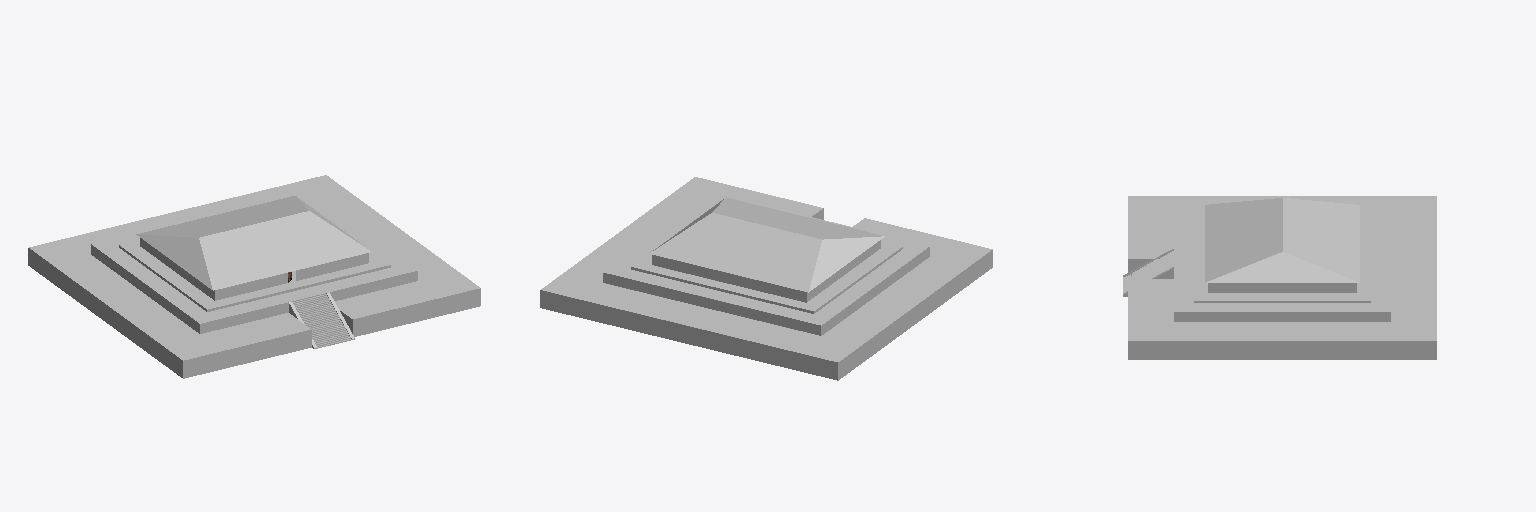
The picture shows the model from 3 angles: view 1: azimuth 30°, elevation 25°; view 2: azimuth 150°, elevation 25°; view 3: azimuth 270°, elevation 25°; orthographic projection.
Visible parts, largest first — view 1: Templo_1_y_2, Rancho_techo, Templo_3, Rancho, Gradas; view 2: Templo_1_y_2, Rancho_techo, Templo_3, Rancho; view 3: Templo_1_y_2, Rancho_techo, Templo_3, Rancho, Gradas.
Part boxes in pixels (x1,y1,x2,y2): Templo_1_y_2: (28,175,480,378); Rancho_techo: (136,196,371,290); Templo_3: (119,200,390,311); Rancho: (140,238,368,300); Gradas: (292,293,351,348); Templo_1_y_2: (540,177,992,380); Rancho_techo: (649,197,884,292); Templo_3: (631,202,902,313); Rancho: (652,240,880,302); Templo_1_y_2: (1128,196,1436,359); Rancho_techo: (1205,198,1359,282); Templo_3: (1194,211,1370,302); Rancho: (1208,283,1356,292); Gradas: (1123,251,1173,293).
Size of the model in its own units: 60 by 11.91 by 54.88.
Materials: 4 (1 with a texture image).